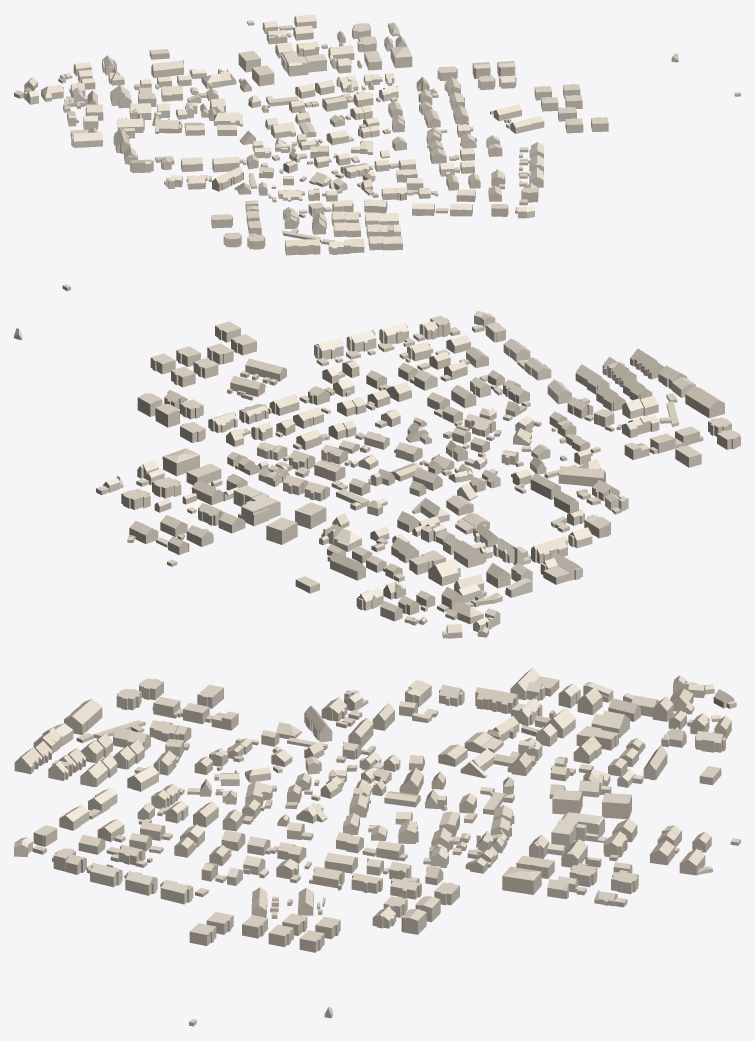
3 renders of one model, top to bottom at view 1: azimuth 30°, elevation 25°; view 2: azimuth 150°, elevation 25°; view 3: azimuth 270°, elevation 25°, orthographic. The views are drawn at different scales.
Bounding box in the file's own units: 623 × 22.93 × 534.
